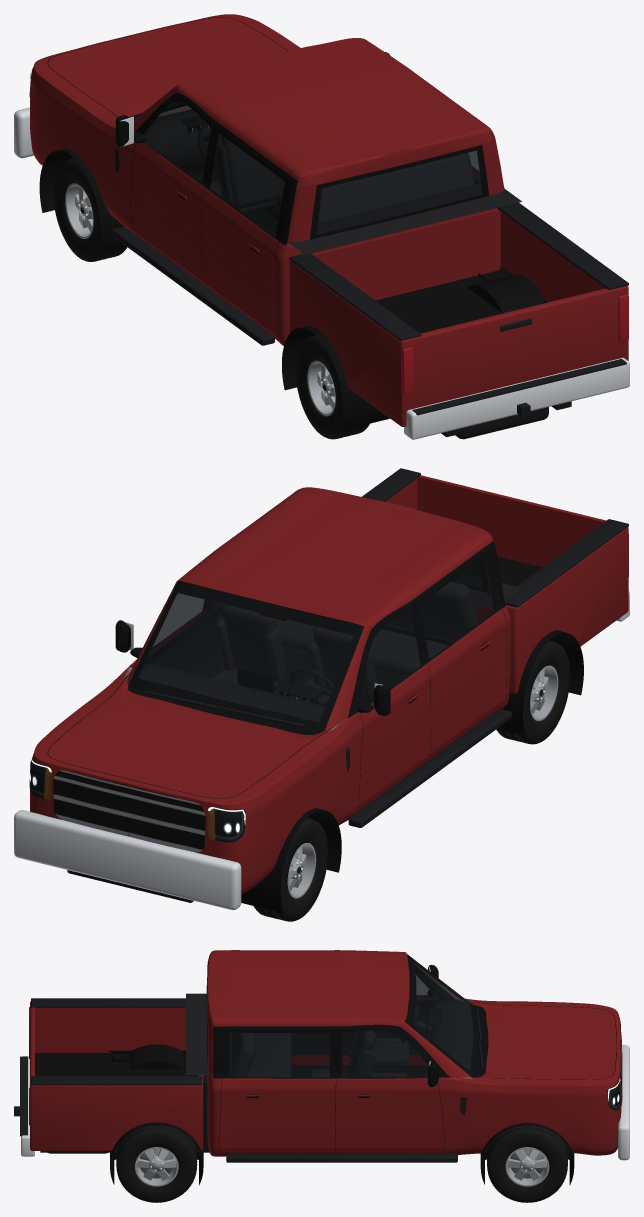
The model's file is bison_xl.glb.
3 views of the same model, one above another, from view 1: azimuth 30°, elevation 25°; view 2: azimuth 150°, elevation 25°; view 3: azimuth 270°, elevation 25° (orthographic). The views are drawn at different scales.
Parts seen in each view (by area): view 1: body, bed, bumper_rear, rear_back, parcel_shelf, bed_floor, step_l, wheel_fl, wheel_rl, rail_cap.001, dash, rail_cap (+10 smaller); view 2: body, bed, bumper_front, grille_l, grille, dash, lining, rear_cushion, step_l, rear_back, wheel_rl, wheel_fl (+14 smaller); view 3: body, bed, wheel_rr, wheel_fr, bed_floor, step_r, lining, dash, parcel_shelf, rear_cushion, rail_cap, rail_cap.001 (+13 smaller).
Part boxes in pixels (box(x1,y1,x2,y2)): body: box(30, 14, 504, 345); bed: box(289, 208, 628, 426); bumper_rear: box(404, 357, 629, 439); rear_back: box(276, 153, 474, 222); parcel_shelf: box(287, 183, 521, 254); bed_floor: box(375, 270, 506, 333); step_l: box(111, 226, 274, 345); wheel_fl: box(53, 158, 127, 261); wheel_rl: box(295, 335, 369, 439); rail_cap.001: box(289, 253, 420, 340); dash: box(143, 109, 218, 180); rail_cap: box(497, 202, 628, 290); body: box(30, 487, 510, 894); bed: box(385, 475, 628, 693); bumper_front: box(14, 810, 241, 910); grille_l: box(128, 786, 205, 852); grille: box(53, 770, 129, 835); dash: box(127, 663, 325, 731); lining: box(123, 593, 345, 731); rear_cushion: box(276, 619, 448, 676); step_l: box(348, 709, 511, 827); rear_back: box(385, 581, 477, 641); wheel_rl: box(496, 640, 570, 744); wheel_fl: box(253, 818, 327, 921); body: box(206, 950, 621, 1156); bed: box(30, 1001, 203, 1150); wheel_rr: box(116, 1125, 197, 1202); wheel_fr: box(487, 1125, 567, 1202); bed_floor: box(35, 1053, 198, 1075); step_r: box(226, 1153, 457, 1162); lining: box(291, 964, 473, 1078); dash: box(429, 999, 472, 1069); parcel_shelf: box(186, 993, 231, 1074); rear_cushion: box(246, 1033, 291, 1077); rail_cap: box(31, 1076, 202, 1085); rail_cap.001: box(31, 998, 185, 1007).
Bounding box in the file's own units: 2.39 × 1.96 × 6.12.
Materials: 27 (7 with a texture image).
